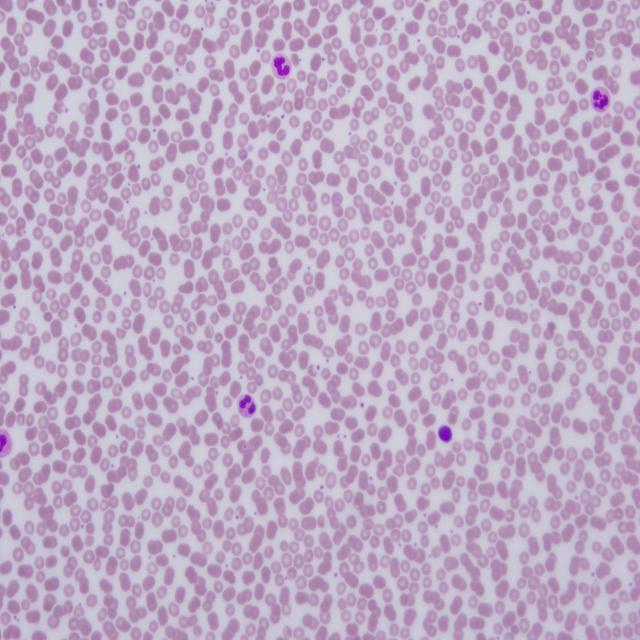cell: (272, 54, 291, 78), (591, 88, 609, 112), (239, 394, 256, 418)
